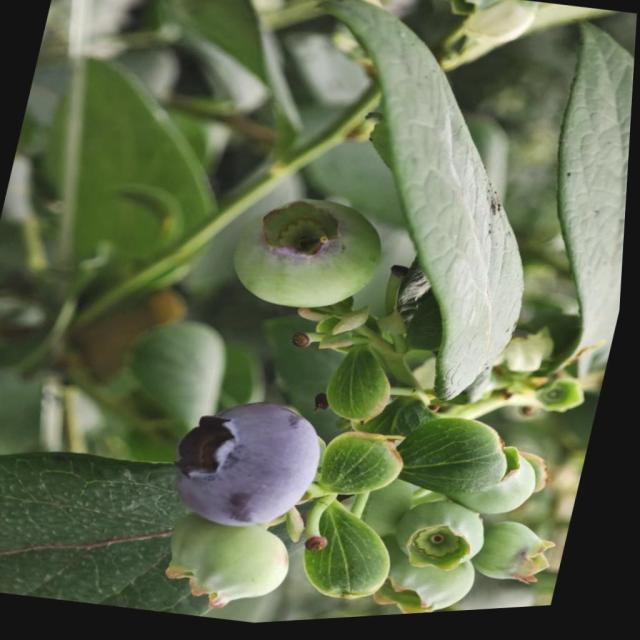RipeBlueBerry: (168, 390, 337, 544)
UnripeBlueBerry: (223, 187, 396, 328), (163, 514, 305, 622)
